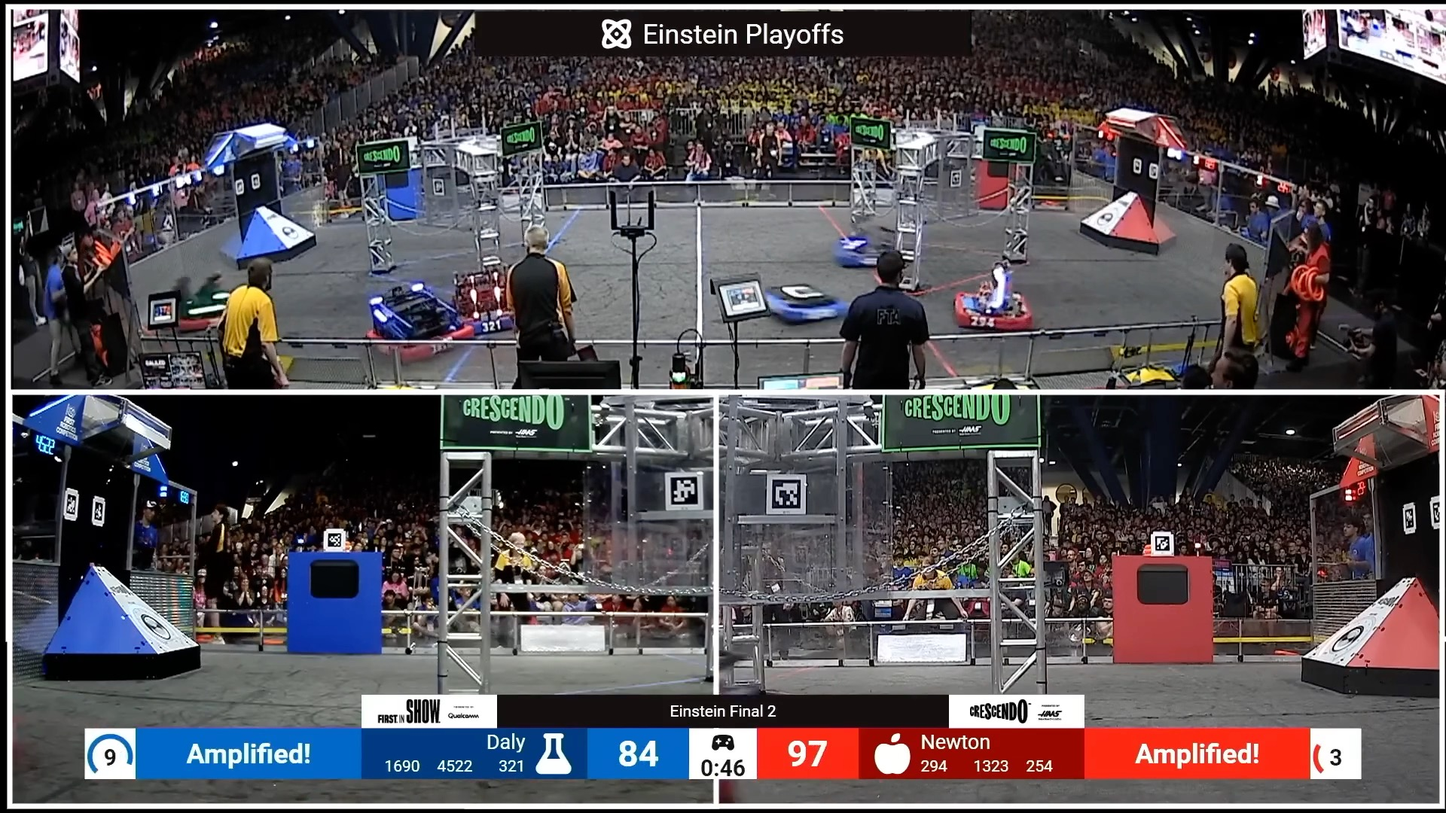bumpers: (366, 301, 486, 365), (947, 289, 1041, 342), (751, 283, 854, 329), (163, 298, 264, 337), (830, 236, 920, 276)
